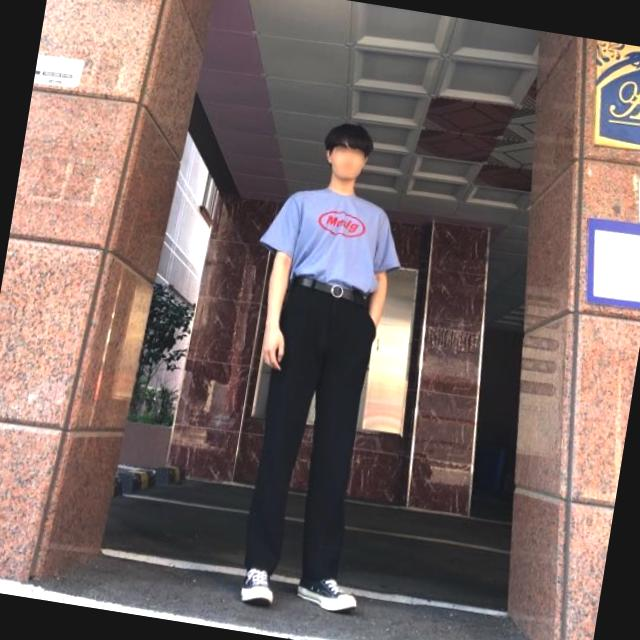shortsleeve: (252, 175, 410, 296)
slacks: (246, 281, 389, 584)
